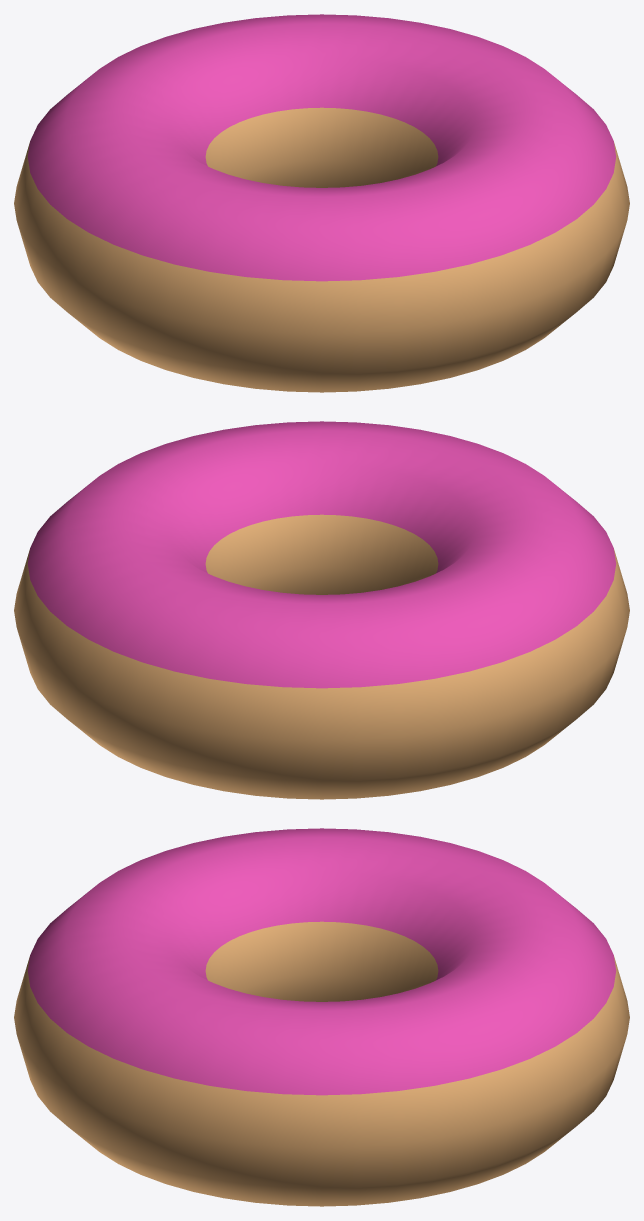
Rendered from donut.fbx.
3 views of the same model, one above another, from view 1: azimuth 30°, elevation 25°; view 2: azimuth 150°, elevation 25°; view 3: azimuth 270°, elevation 25° (orthographic).
Parts seen in each view (by area): view 1: Torus; view 2: Torus; view 3: Torus.
Part boxes in pixels (box(x1,y1,x2,y2)): Torus: box(14, 14, 629, 392); Torus: box(14, 421, 629, 799); Torus: box(14, 828, 629, 1206).
Bounding box in the file's own units: 600 × 200 × 600.
